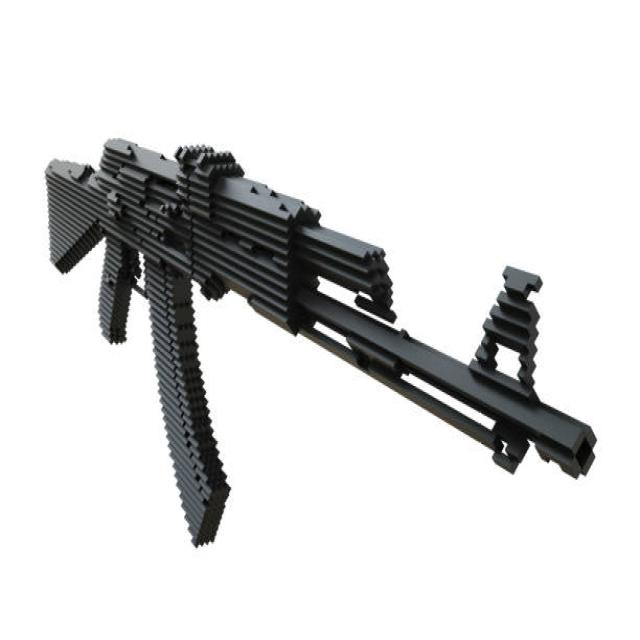rifle: (42, 139, 614, 566)
